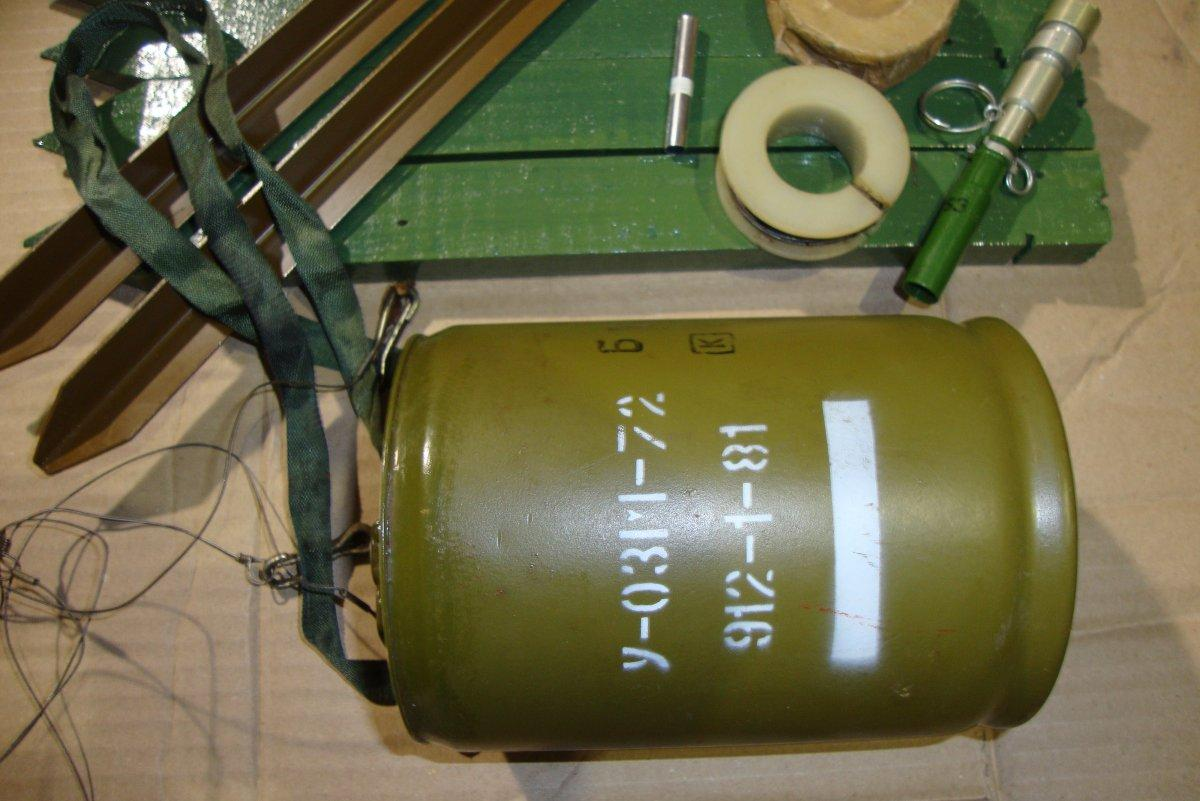OZM 72: (375, 311, 1080, 752)
